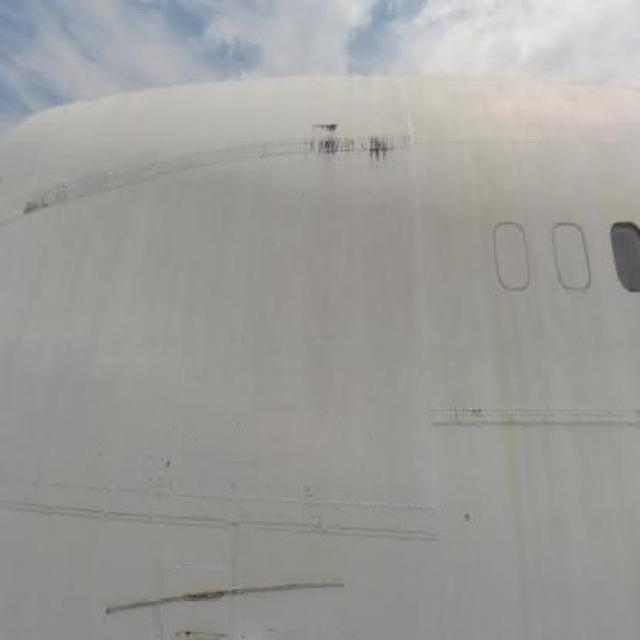Rust: (290, 113, 415, 179)
Scartch: (17, 179, 94, 236)
